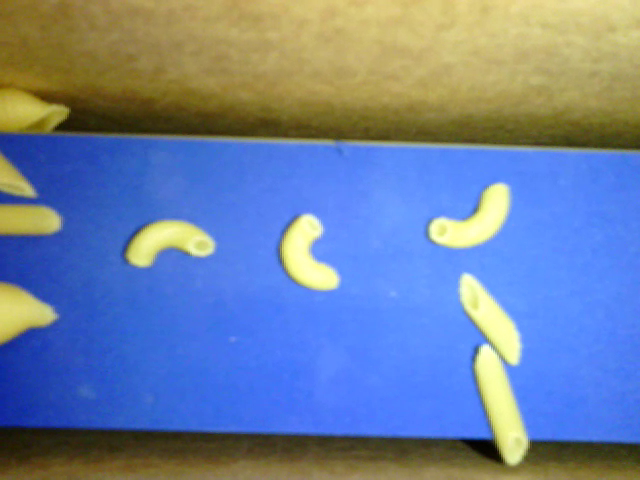elbow: (427, 179, 510, 251), (123, 218, 216, 270), (278, 213, 339, 291)
penne: (473, 344, 531, 467), (458, 271, 524, 368), (1, 202, 64, 237), (1, 151, 40, 199)
shell: (1, 279, 62, 351), (1, 85, 71, 134)
